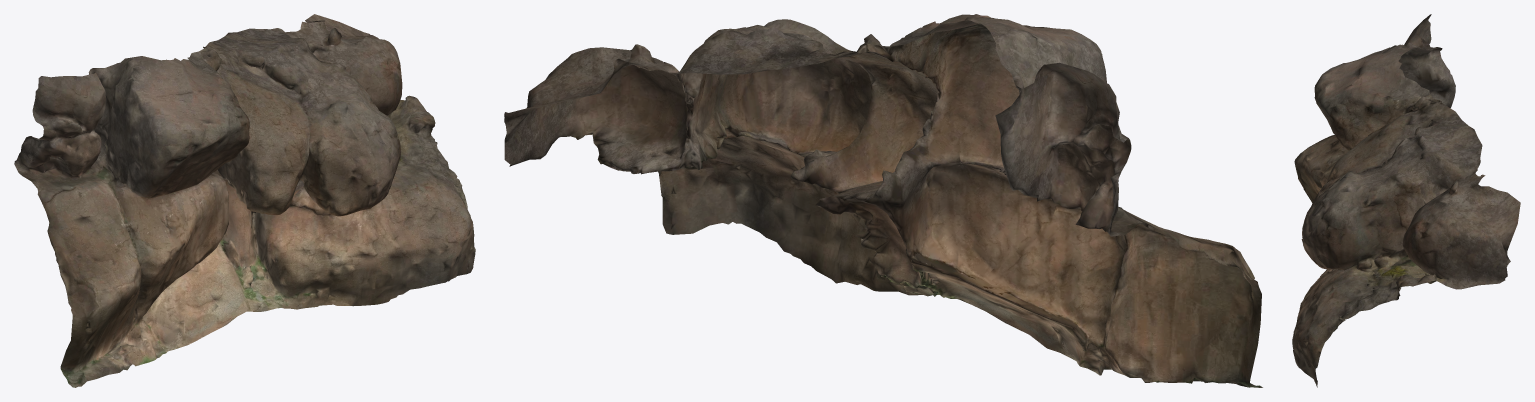
Rendered from namaqualand_cliff_01.glb.
The picture shows the model from 3 angles, left to right: view 1: azimuth 30°, elevation 25°; view 2: azimuth 150°, elevation 25°; view 3: azimuth 270°, elevation 25°; orthographic projection. The views are drawn at different scales.
Parts seen in each view (by area): view 1: drone_rock_01; view 2: drone_rock_01; view 3: drone_rock_01.
Boxes of the visible parts, <box> form: drone_rock_01: <box>14,14,475,387</box>; drone_rock_01: <box>504,14,1262,387</box>; drone_rock_01: <box>1292,14,1520,387</box>.
Size of the model in its own units: 8.28 by 4.96 by 4.39.
1 material, 1 textured.
